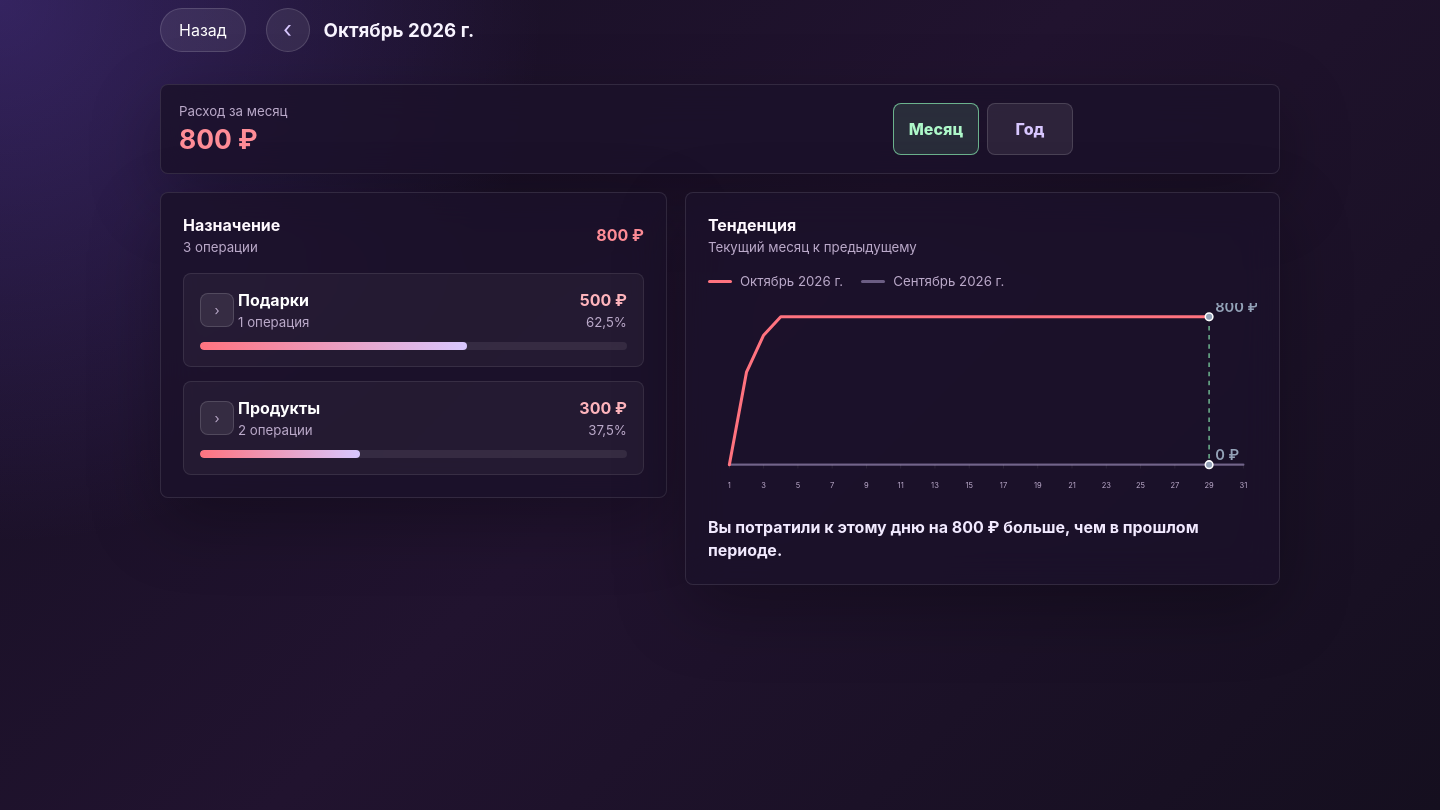
ExpenseAnalyticsPage › sorts categories by expense amount and uses the category name instead of a placeholder
Expected: the element with class "expense-breakdown__group" shows "Подарки", x1=238 y1=290 x2=309 y2=310
Click the button named "Показать Продукты" at {"x": 217, "y": 418}, box x1=200 y1=401 x2=234 y2=435
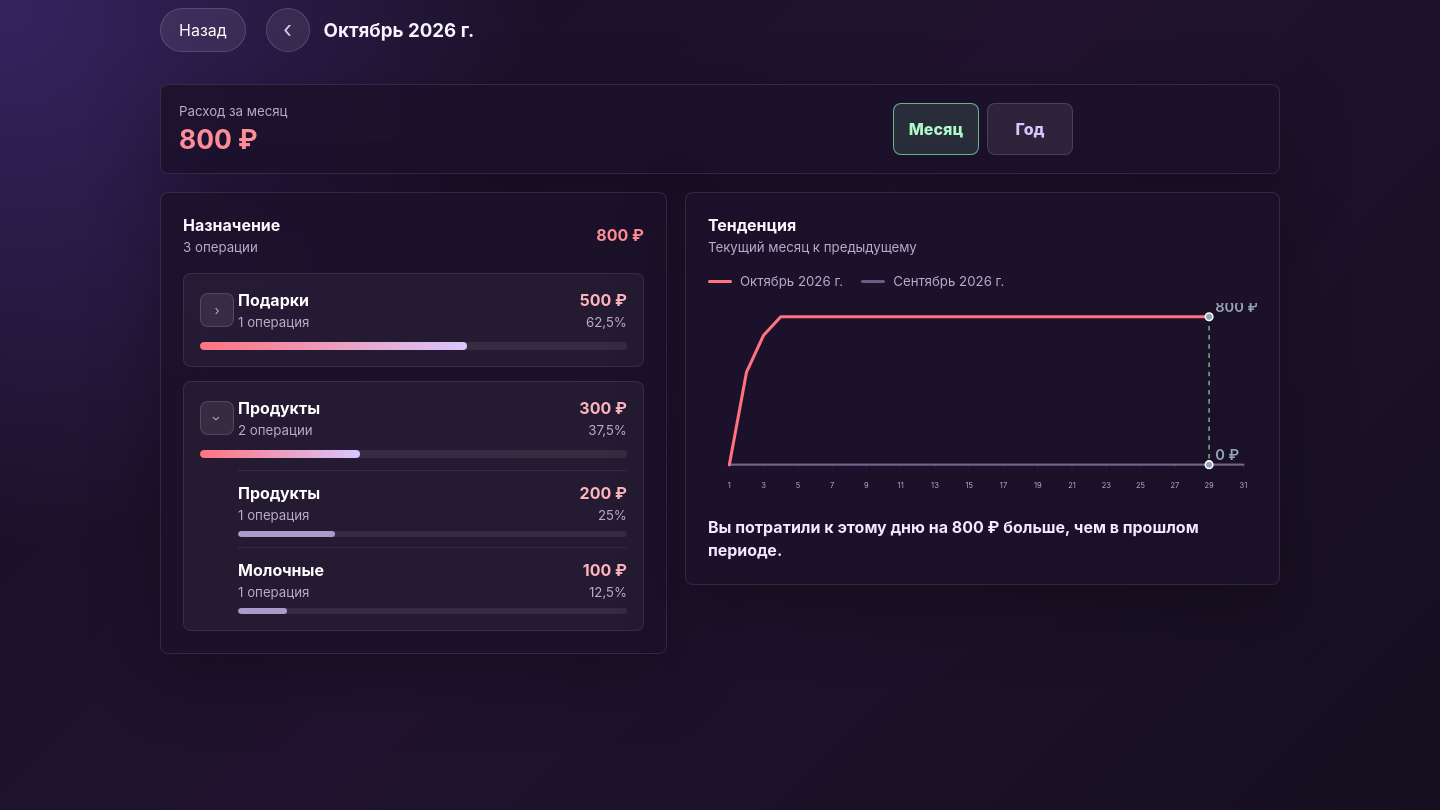
Expected: the element with class "expense-subcategories" shows "Молочные", x1=238 y1=560 x2=324 y2=580
Expected: the element with class "expense-subcategories" shows "Продукты", x1=238 y1=483 x2=320 y2=503
